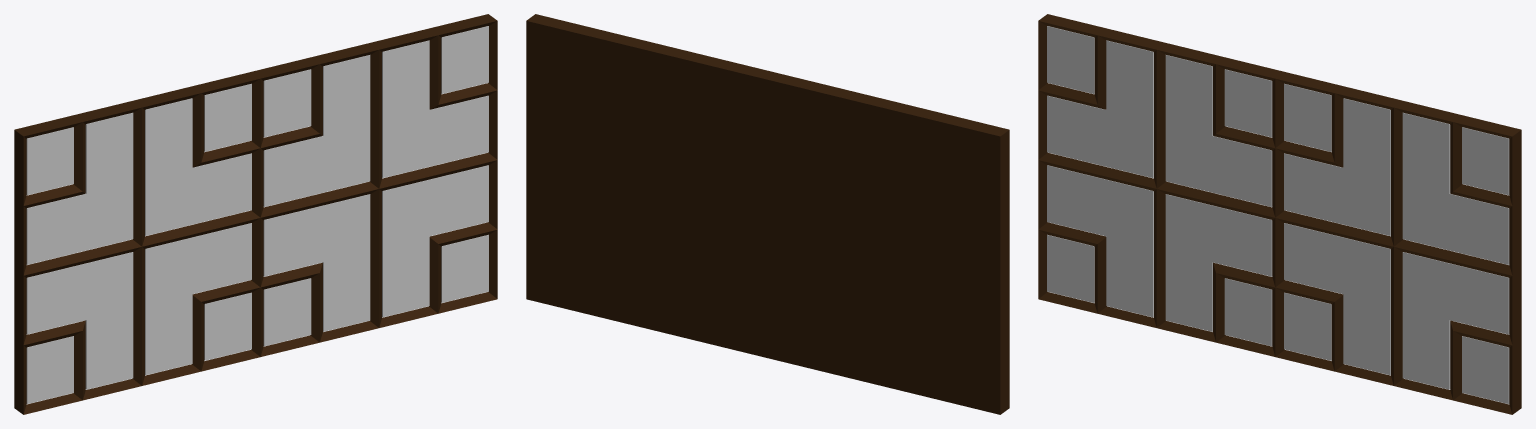
Rendered from wall.gltf.
The picture shows the model from 3 angles, left to right: view 1: azimuth 30°, elevation 25°; view 2: azimuth 150°, elevation 25°; view 3: azimuth 330°, elevation 25°; orthographic projection.
Visible parts, largest first — view 1: mesh_hanzi, mesh_wall; view 2: mesh_wall; view 3: mesh_hanzi, mesh_wall.
Part boxes in pixels (<box>): mesh_hanzi: <box>26,26,488,403</box>; mesh_wall: <box>14,14,497,414</box>; mesh_wall: <box>526,14,1009,414</box>; mesh_hanzi: <box>1047,26,1509,403</box>; mesh_wall: <box>1038,14,1521,414</box>.
Size of the model in its own units: 89.09 by 50 by 3.03.
